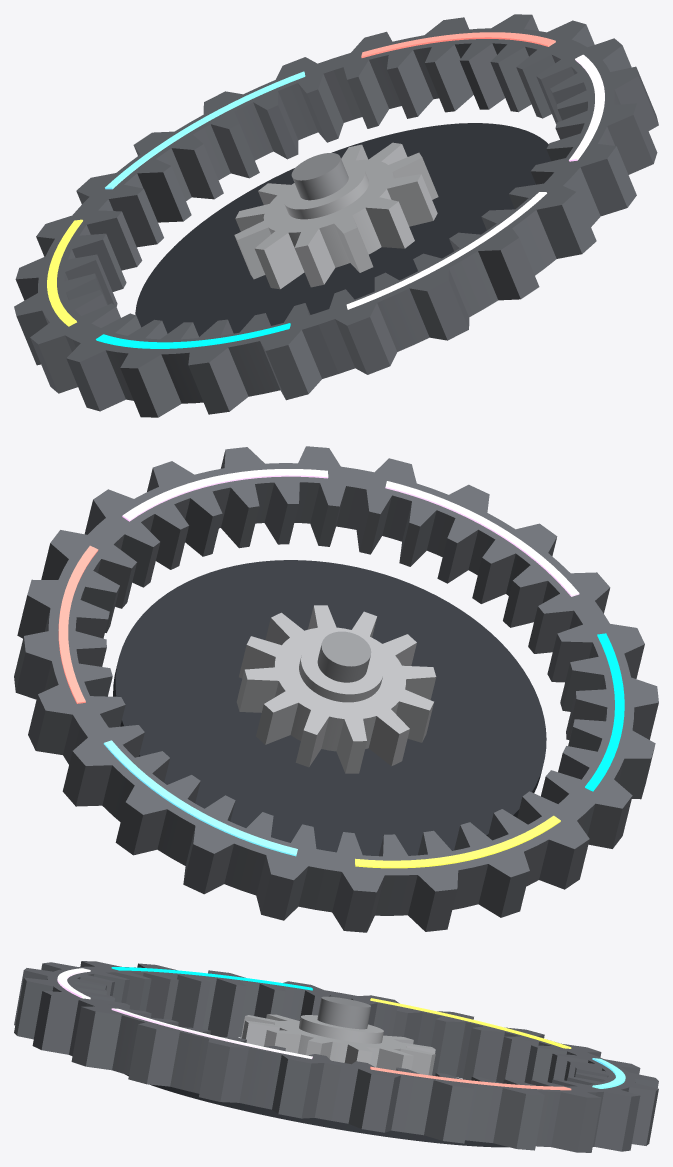
File: salvi_gear.glb
3 renders of one model, top to bottom at view 1: azimuth 30°, elevation 25°; view 2: azimuth 150°, elevation 25°; view 3: azimuth 270°, elevation 25°, orthographic. The views are drawn at different scales.
Parts seen in each view (by area): view 1: carrier_plate, quarter_5, quarter_4, quarter_2, quarter_1, sun_gear, quarter_6, quarter_3, sun_cap, sun_shaft, quarter_2_accent, quarter_5_accent (+4 smaller); view 2: carrier_plate, quarter_2, quarter_3, quarter_5, quarter_6, sun_gear, quarter_1, quarter_4, sun_cap, sun_shaft, quarter_2_accent, quarter_5_accent (+4 smaller); view 3: quarter_6, quarter_1, quarter_4, quarter_3, quarter_5, quarter_2, sun_gear, carrier_plate, sun_shaft, sun_cap, quarter_6_accent, quarter_3_accent (+4 smaller).
Boxes of the visible parts, x1,y1,x2,y2 form: carrier_plate: (135, 123, 550, 336); quarter_5: (318, 176, 596, 374); quarter_4: (66, 303, 338, 417); quarter_2: (76, 57, 353, 247); quarter_1: (333, 14, 594, 128); sun_gear: (234, 142, 438, 289); quarter_6: (530, 38, 658, 225); quarter_3: (14, 205, 142, 393); sun_cap: (283, 163, 368, 219); sun_shaft: (291, 153, 348, 200); quarter_2_accent: (105, 71, 305, 189); quarter_5_accent: (346, 192, 546, 309); carrier_plate: (113, 560, 546, 855); quarter_2: (62, 721, 326, 920); quarter_3: (315, 791, 589, 932); quarter_5: (346, 458, 610, 653); quarter_6: (84, 446, 357, 587); sun_gear: (236, 605, 436, 773); quarter_1: (14, 526, 136, 764); quarter_4: (541, 612, 658, 848); sun_cap: (299, 637, 383, 702); sun_shaft: (317, 631, 371, 682); quarter_2_accent: (103, 740, 297, 856); quarter_5_accent: (385, 481, 579, 596); quarter_6: (71, 1003, 341, 1120); quarter_1: (331, 1061, 601, 1152); quarter_4: (80, 961, 341, 1037); quarter_3: (341, 993, 601, 1083); quarter_5: (14, 962, 129, 1056); quarter_2: (547, 1053, 658, 1151); sun_gear: (241, 1014, 435, 1075); carrier_plate: (125, 1074, 508, 1147); sun_shaft: (317, 996, 370, 1029); sun_cap: (299, 1015, 383, 1043); quarter_6_accent: (111, 1008, 312, 1058); quarter_3_accent: (370, 998, 571, 1048).
Bounding box in the file's own units: 11.25 × 4.96 × 11.45.
